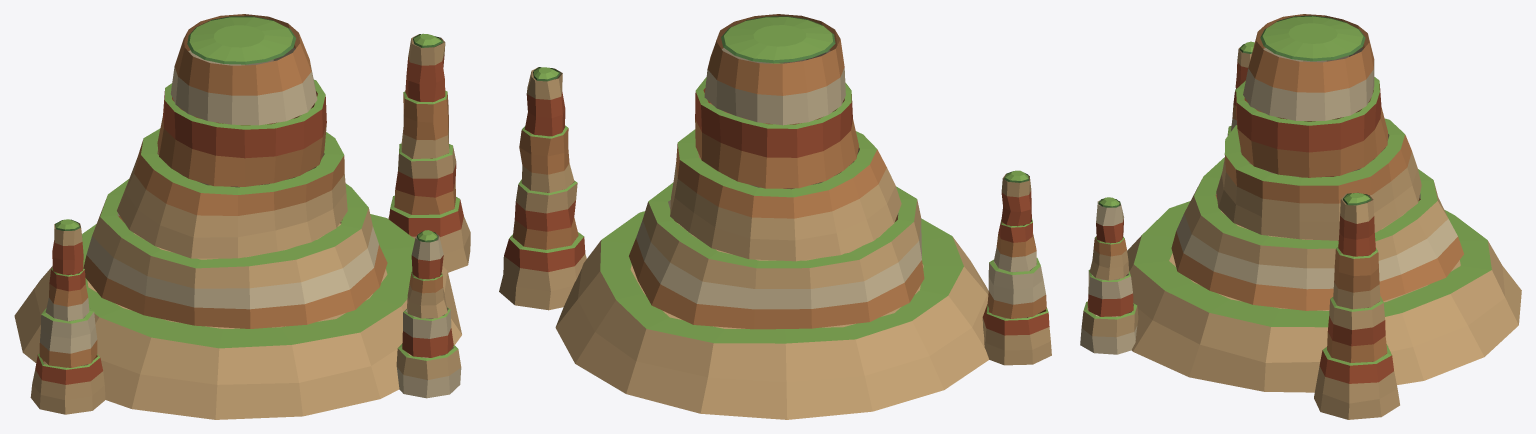
The model's file is butte.glb.
The picture shows the model from 3 angles, left to right: view 1: azimuth 30°, elevation 25°; view 2: azimuth 150°, elevation 25°; view 3: azimuth 270°, elevation 25°; orthographic projection. The views are drawn at different scales.
Parts seen in each view (by area): view 1: butte; view 2: butte; view 3: butte.
Part boxes in pixels (x1,y1,x2,y2): butte: (14, 14, 470, 419); butte: (499, 14, 1051, 419); butte: (1080, 14, 1521, 419).
Size of the model in its own units: 120 by 67.95 by 100.
